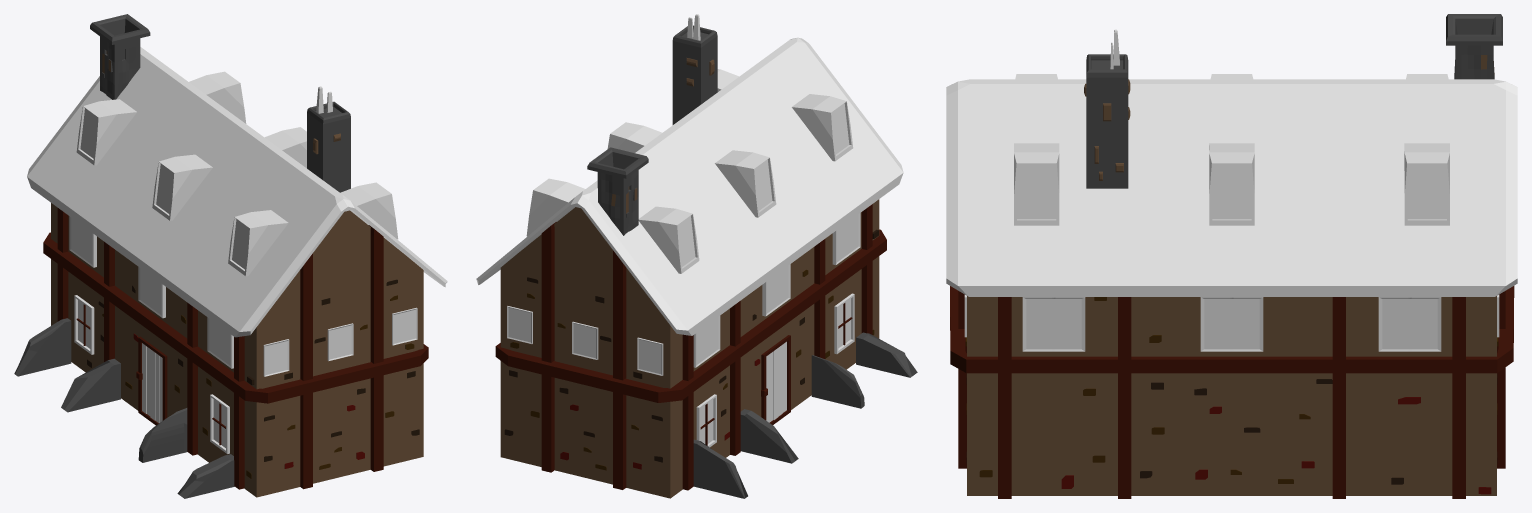
The model's file is Village_Build_3.fbx.
3 views of the same model, side by side, from view 1: azimuth 30°, elevation 25°; view 2: azimuth 150°, elevation 25°; view 3: azimuth 270°, elevation 25° (orthographic). The views are drawn at different scales.
Parts seen in each view (by area): view 1: Cube.014; view 2: Cube.014; view 3: Cube.014.
Part boxes in pixels (x1,y1,x2,y2): Cube.014: [14, 14, 447, 498]; Cube.014: [476, 14, 917, 498]; Cube.014: [946, 14, 1517, 498].
Size of the model in its own units: 556 by 742 by 878.
